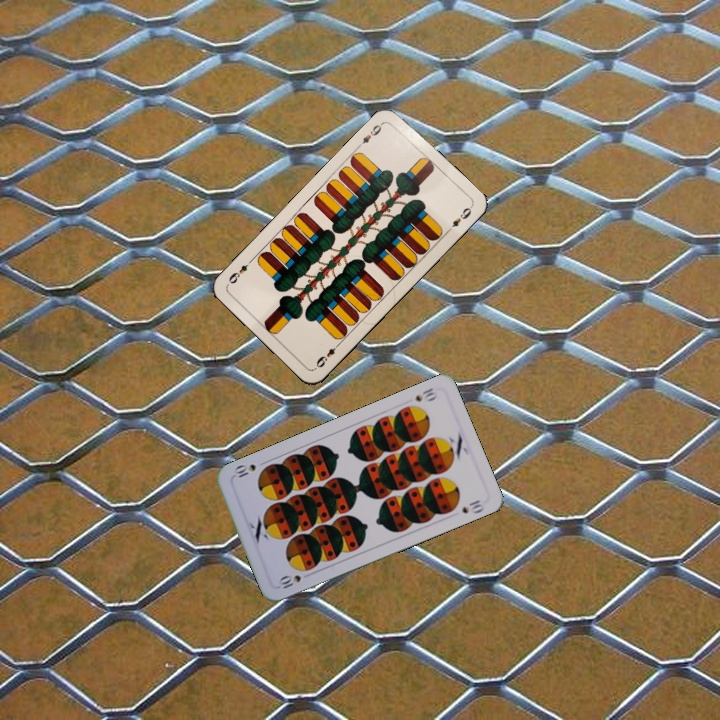E9: (311, 339, 343, 371), (354, 118, 386, 150)
S10: (274, 571, 304, 591), (411, 384, 439, 404)
